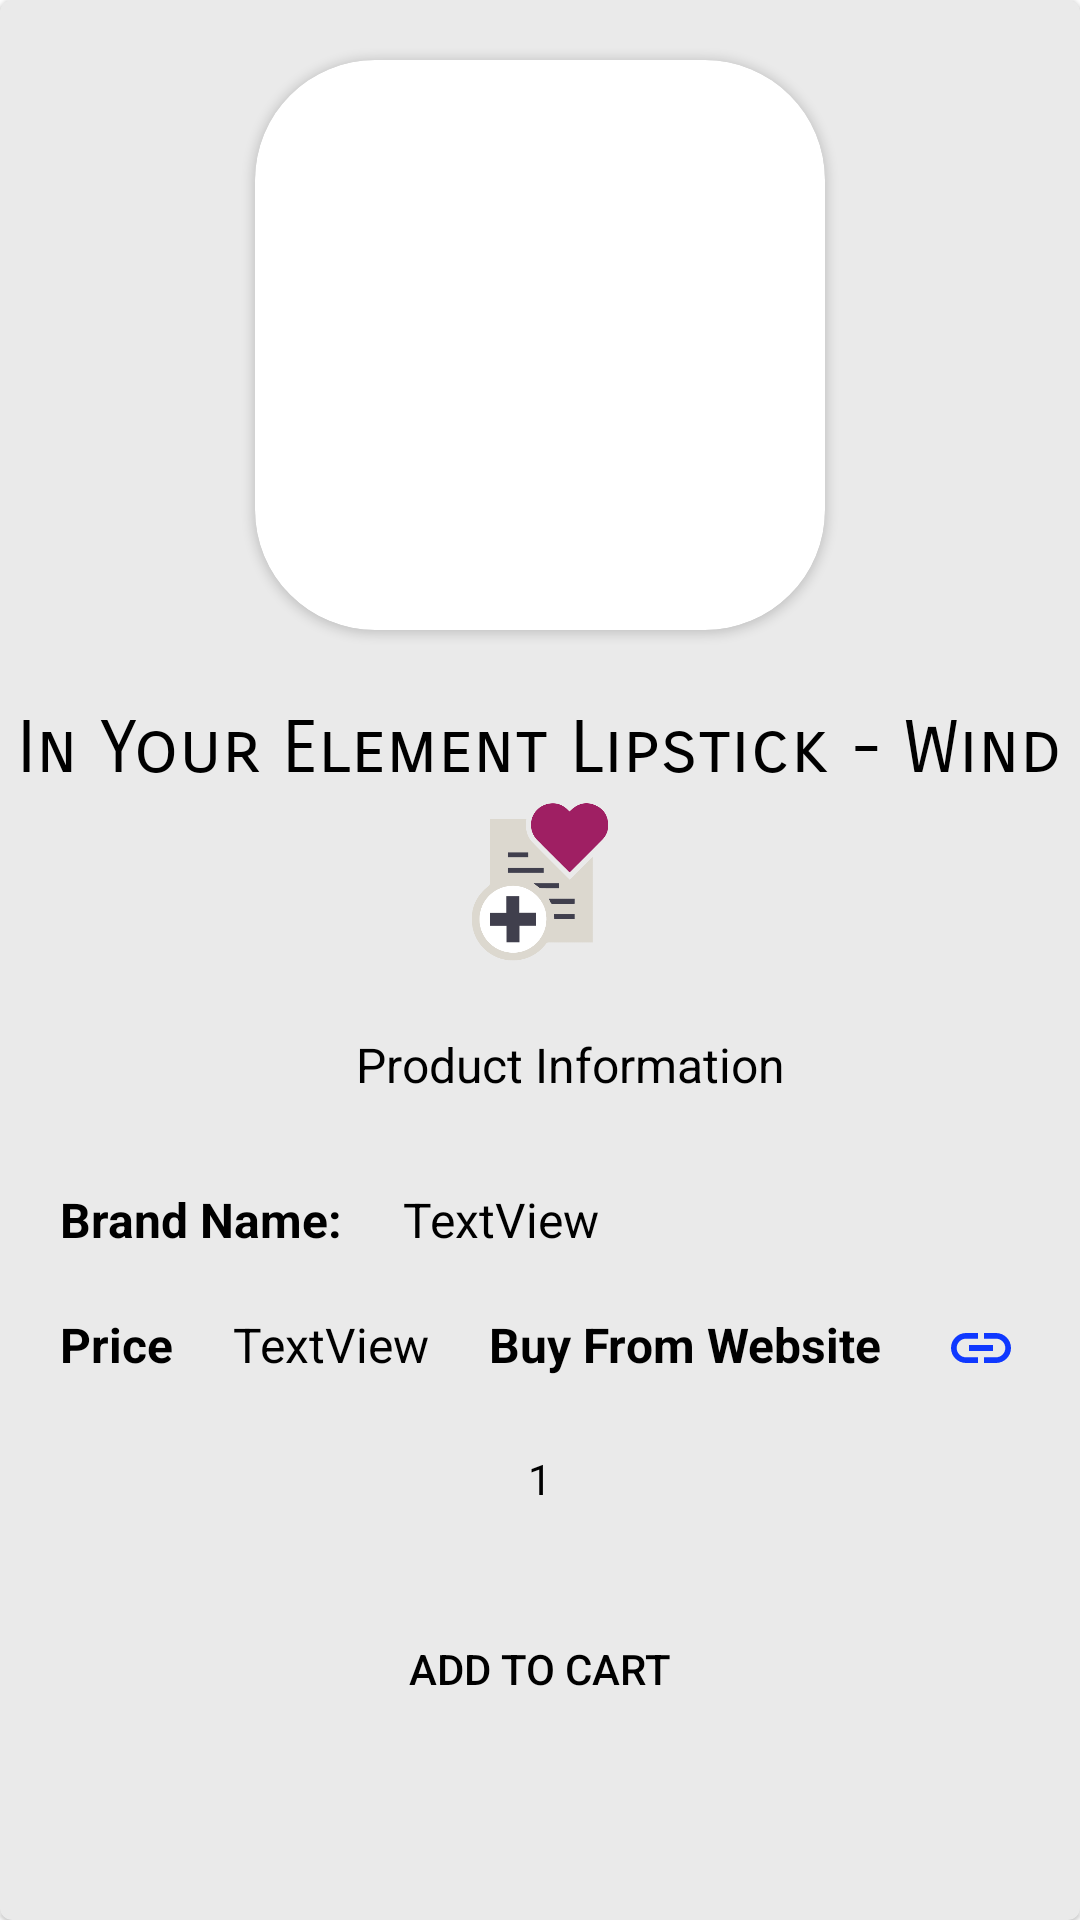

Icon bounding boxes for this 1080×1920 phone screenshot, format BBox(x1, y1, x2, y2):
link: BBox(951, 1333, 1011, 1363)
wishlist: BBox(472, 803, 608, 960)
